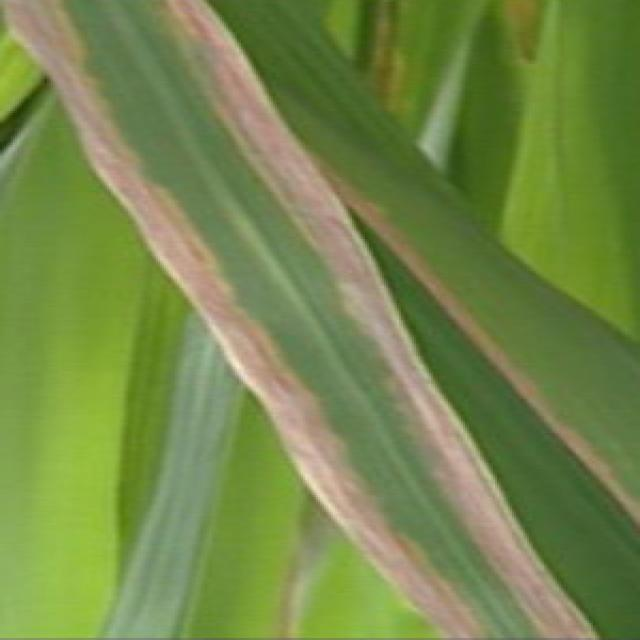Rice: (478, 486, 598, 640), (264, 394, 391, 534), (356, 514, 480, 640), (0, 0, 124, 122), (68, 108, 191, 226), (132, 206, 245, 327), (200, 307, 320, 416), (412, 400, 506, 532), (209, 67, 324, 169), (319, 224, 413, 344), (364, 313, 465, 421), (170, 0, 274, 104), (269, 141, 364, 246)
